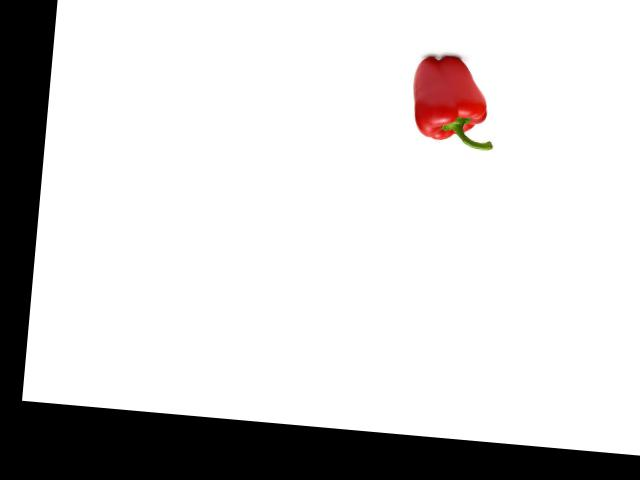bell_pepper: (403, 46, 503, 156)
